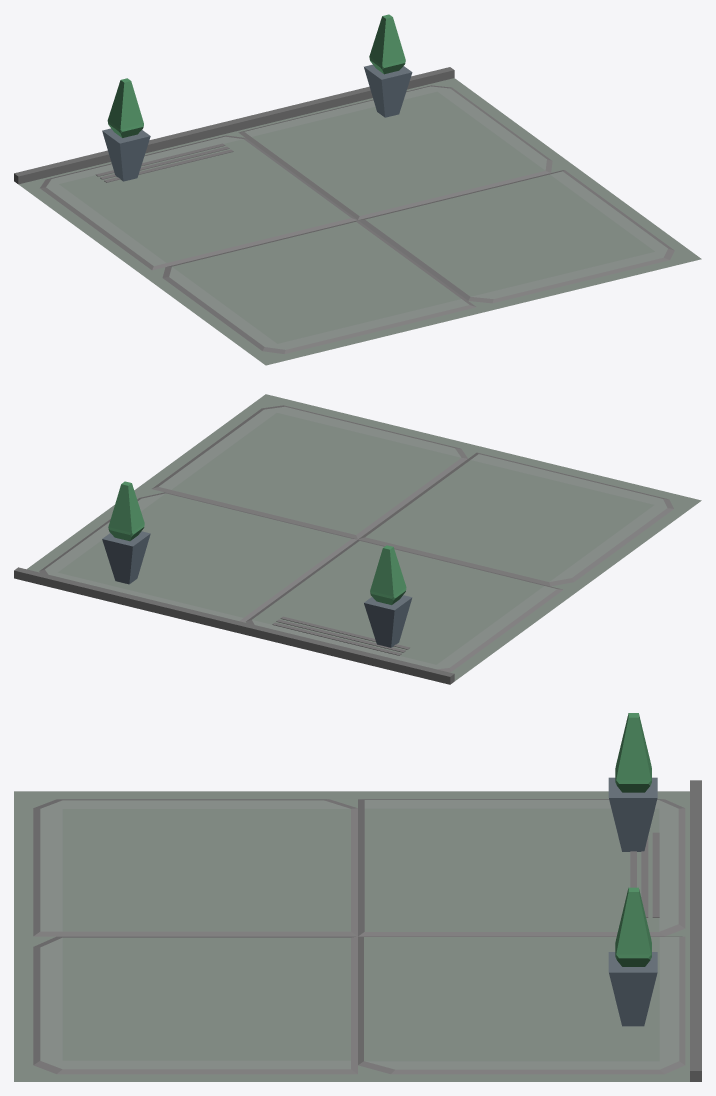
The model's file is OpenRoad_D.gltf.
3 renders of one model, top to bottom at view 1: azimuth 30°, elevation 25°; view 2: azimuth 150°, elevation 25°; view 3: azimuth 270°, elevation 25°, orthographic. The views are drawn at different scales.
Visible parts, largest first — view 1: Scifi_Panel_03 Plaza014_group4.001; view 2: Scifi_Panel_03 Plaza014_group4.001; view 3: Scifi_Panel_03 Plaza014_group4.001.
Part boxes in pixels (x1,y1,x2,y2): Scifi_Panel_03 Plaza014_group4.001: (14, 14, 701, 365); Scifi_Panel_03 Plaza014_group4.001: (14, 394, 701, 684); Scifi_Panel_03 Plaza014_group4.001: (14, 713, 701, 1081).
Size of what is drawn, in the model's own units: 10 by 2.2 by 10.
1 material, 1 textured.
